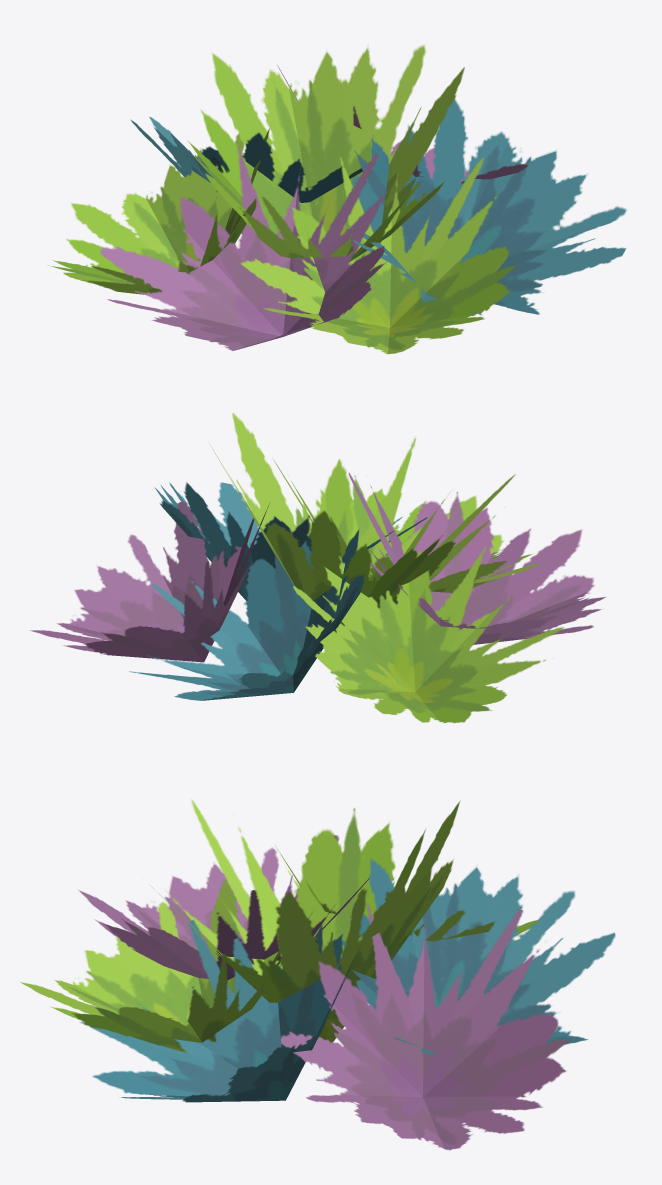
The model's file is Plant_10.glb.
3 views of the same model, one above another, from view 1: azimuth 30°, elevation 25°; view 2: azimuth 150°, elevation 25°; view 3: azimuth 270°, elevation 25° (orthographic). The views are drawn at different scales.
Visible parts, largest first — view 1: Plant_10; view 2: Plant_10; view 3: Plant_10.
Boxes of the visible parts, box(x1,y1,x2,y2) form: Plant_10: box(47, 45, 626, 354); Plant_10: box(30, 413, 605, 723); Plant_10: box(20, 799, 615, 1150).
Bounding box in the file's own units: 1.28 × 0.4986 × 1.2.
1 material, 1 textured.
